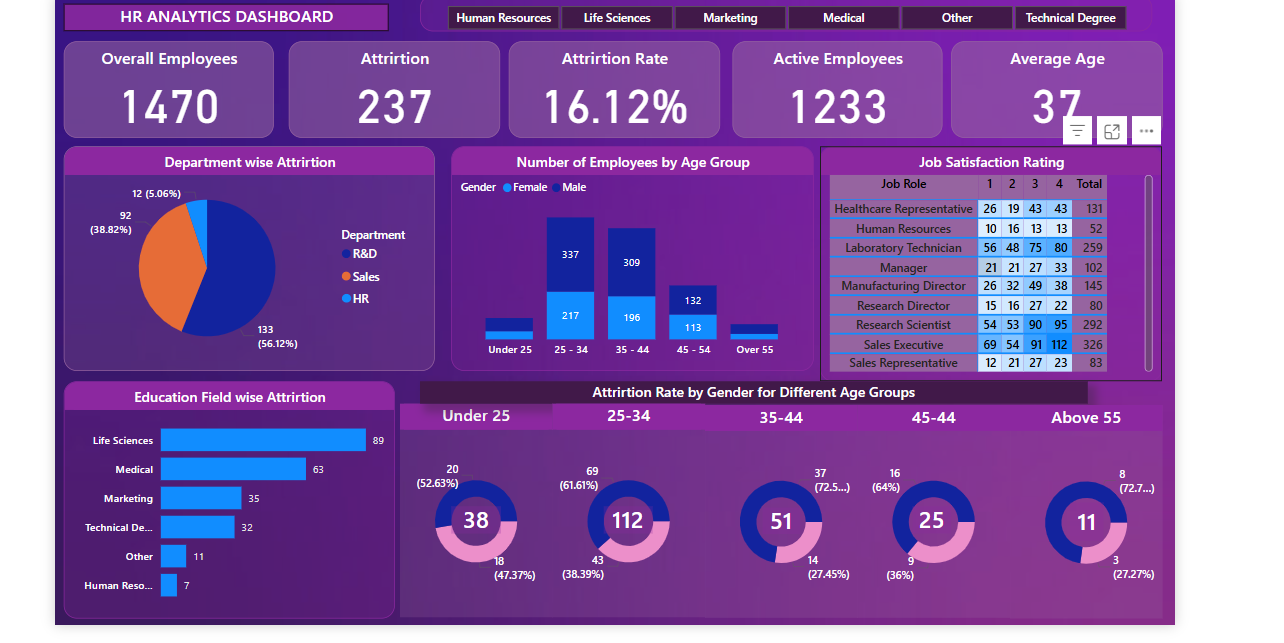

The dashboard page shown, as its layout file describes it:
{"tool":"powerbi","page":{"name":"Page 1","canvas":[1280,720],"ordinal":0},"visuals":[{"type":"card","title":"Overall Employees","fields":{"Values":["Sum(HR data.Employee Count)"]},"box":[10,52.9,240,110],"z":0},{"type":"card","title":"Attrirtion","fields":{"Values":["Sum(HR data.Attrirtion Count)"]},"box":[267.1,52.9,241.4,110],"z":1000},{"type":"card","title":"Attrirtion Rate","fields":{"Values":["HR data.Attrirtion_Rate"]},"box":[518.6,52.9,241.4,110],"z":2000},{"type":"card","title":"Active Employees","fields":{"Values":["HR data.Active_Employeess"]},"box":[774.3,52.9,240,110],"z":3000},{"type":"card","title":"Average Age","fields":{"Values":["Avg(HR data.Age)"]},"box":[1024.3,52.9,241.4,110],"z":4000},{"type":"pieChart","title":"Department wise Attrirtion","fields":{"Category":["HR data.Department"],"Y":["Sum(HR data.Attrirtion Count)"]},"box":[10,172.9,424.3,257.1],"z":5000},{"type":"columnChart","title":"Number of Employees by Age Group","fields":{"Category":["HR data.CF_age band"],"Y":["Sum(HR data.Employee Count)"],"Series":["HR data.Gender"]},"box":[452.9,172.9,414.3,257.1],"z":6000},{"type":"pivotTable","title":"Job Satisfaction Rating","fields":{"Rows":["HR data.Job Role"],"Columns":["HR data.Job Satisfaction"],"Values":["Sum(HR data.Employee Count)"]},"box":[874.3,172.9,391.4,268.6],"z":7000},{"type":"barChart","title":"Education Field wise Attrirtion","fields":{"Y":["Sum(HR data.Attrirtion Count)"],"Category":["HR data.Education Field"]},"box":[10,441.4,378.6,271.4],"z":8000},{"type":"donutChart","title":"Under 25","fields":{"Category":["HR data.Gender"],"Y":["Sum(HR data.Attrirtion Count)"],"Series":["HR data.CF_age band"]},"box":[394.3,467.1,174.3,244.3],"z":9000},{"type":"textbox","title":"Attrirtion Rate by Gender for Different Age Groups","box":[417.1,441.4,762.9,25.7],"z":10000},{"type":"donutChart","title":"25-34","fields":{"Category":["HR data.Gender"],"Y":["Sum(HR data.Attrirtion Count)"],"Series":["HR data.CF_age band"]},"box":[568.6,467.1,174.3,244.3],"z":11000},{"type":"donutChart","title":"35-44","fields":{"Category":["HR data.Gender"],"Y":["Sum(HR data.Attrirtion Count)"],"Series":["HR data.CF_age band"]},"box":[742.9,468.6,174.3,242.9],"z":12000},{"type":"donutChart","title":"45-44","fields":{"Category":["HR data.Gender"],"Y":["Sum(HR data.Attrirtion Count)"],"Series":["HR data.CF_age band"]},"box":[917.1,468.6,174.3,242.9],"z":13000},{"type":"donutChart","title":"Above 55","fields":{"Category":["HR data.Gender"],"Y":["Sum(HR data.Attrirtion Count)"],"Series":["HR data.CF_age band"]},"box":[1091.4,468.6,174.3,244.3],"z":14000},{"type":"card","fields":{"Values":["Sum(HR data.Attrirtion Count)"]},"box":[452.9,584.3,57.1,31.4],"z":15000},{"type":"card","fields":{"Values":["Sum(HR data.Attrirtion Count)"]},"box":[1160,580,38.6,44.3],"z":16000},{"type":"card","fields":{"Values":["Sum(HR data.Attrirtion Count)"]},"box":[980,584.3,44.3,31.4],"z":17000},{"type":"card","fields":{"Values":["Sum(HR data.Attrirtion Count)"]},"box":[808.6,585.7,42.9,30],"z":18000},{"type":"card","fields":{"Values":["Sum(HR data.Attrirtion Count)"]},"box":[627.1,584.3,55.7,31.4],"z":19000},{"type":"textbox","title":"HR ANALYTICS DASHBOARD","box":[10,10,371.4,31.4],"z":20000},{"type":"slicer","title":"Education Field wise Attrirtion","fields":{"Values":["HR data.Education Field"]},"box":[417.1,0,837.1,41.4],"z":21000}]}

Visuals, with their boxes in screenshot pixels (x1, y1, x2, y2):
"Overall Employees" card: (left=52, top=62, right=256, bottom=155)
"Attrirtion" card: (left=270, top=62, right=475, bottom=155)
"Attrirtion Rate" card: (left=483, top=62, right=688, bottom=155)
"Active Employees" card: (left=700, top=62, right=904, bottom=155)
"Average Age" card: (left=912, top=62, right=1117, bottom=155)
"Department wise Attrirtion" pieChart: (left=52, top=163, right=412, bottom=381)
"Number of Employees by Age Group" columnChart: (left=428, top=163, right=779, bottom=381)
"Job Satisfaction Rating" pivotTable: (left=785, top=163, right=1117, bottom=391)
"Education Field wise Attrirtion" barChart: (left=52, top=391, right=373, bottom=621)
"Under 25" donutChart: (left=378, top=413, right=526, bottom=620)
"Attrirtion Rate by Gender for Different Age Groups" textbox: (left=397, top=391, right=1044, bottom=413)
"25-34" donutChart: (left=526, top=413, right=674, bottom=620)
"35-44" donutChart: (left=674, top=414, right=821, bottom=620)
"45-44" donutChart: (left=821, top=414, right=969, bottom=620)
"Above 55" donutChart: (left=969, top=414, right=1117, bottom=621)
card - Sum(HR data.Attrirtion Count): (left=428, top=512, right=476, bottom=539)
card - Sum(HR data.Attrirtion Count): (left=1027, top=509, right=1060, bottom=546)
card - Sum(HR data.Attrirtion Count): (left=875, top=512, right=912, bottom=539)
card - Sum(HR data.Attrirtion Count): (left=729, top=513, right=766, bottom=539)
card - Sum(HR data.Attrirtion Count): (left=575, top=512, right=623, bottom=539)
"HR ANALYTICS DASHBOARD" textbox: (left=52, top=25, right=367, bottom=52)
"Education Field wise Attrirtion" slicer: (left=397, top=17, right=1107, bottom=52)
